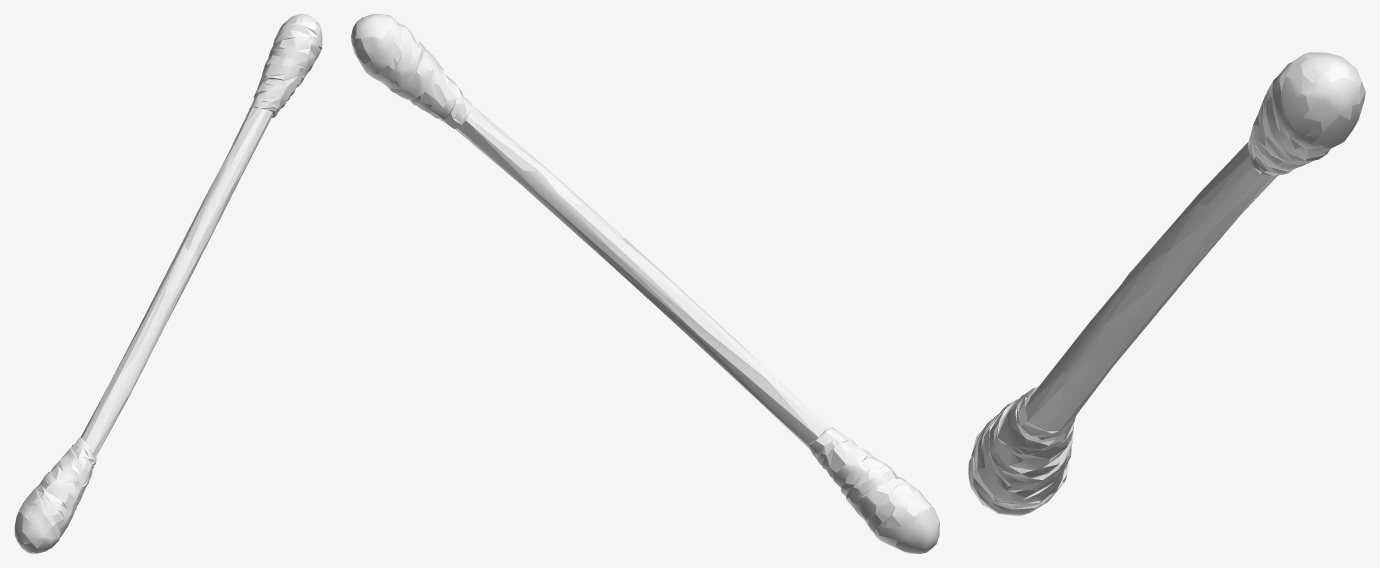
File: hisopo.glb
3 views of the same model, side by side, from view 1: azimuth 30°, elevation 25°; view 2: azimuth 150°, elevation 25°; view 3: azimuth 270°, elevation 25° (orthographic). The views are drawn at different scales.
Parts seen in each view (by area): view 1: output_unwrapped; view 2: output_unwrapped; view 3: output_unwrapped.
Part boxes in pixels (left/top/right/bottom): output_unwrapped: left=14, top=14, right=322, bottom=553; output_unwrapped: left=351, top=14, right=939, bottom=553; output_unwrapped: left=968, top=52, right=1365, bottom=515.
Bounding box in the file's own units: 1.9 × 1.89 × 0.8635.
1 material, 1 textured.
